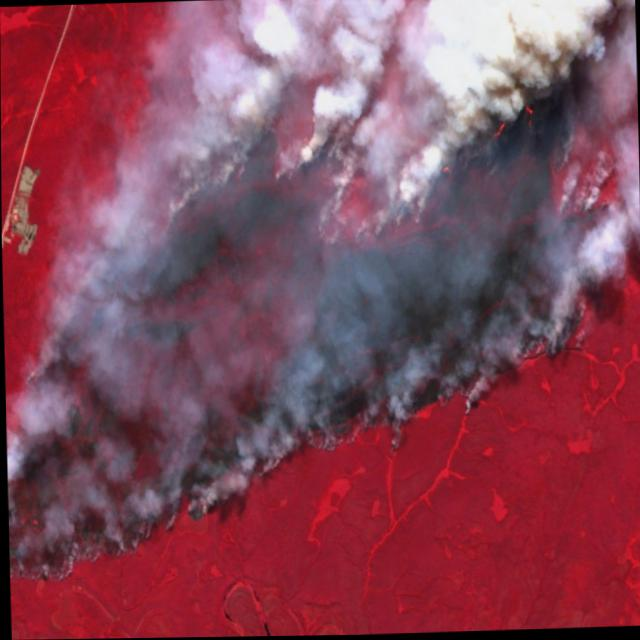fire: (2, 258, 640, 612), (433, 78, 552, 193), (549, 153, 612, 232), (316, 202, 421, 246), (271, 121, 316, 197), (155, 190, 185, 225)
